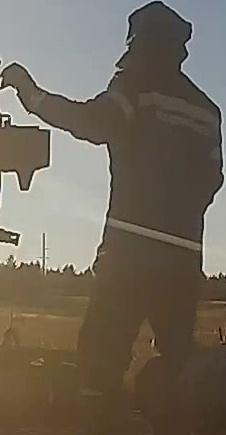gloves: (1, 59, 48, 116)
vest: (98, 64, 225, 285)
